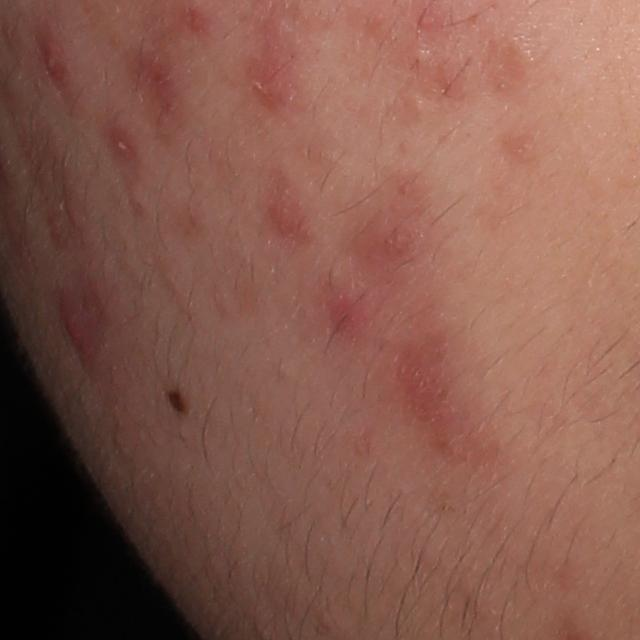nevus: (159, 389, 189, 416)
papule: (241, 54, 309, 116), (261, 181, 321, 246), (331, 274, 378, 336)
